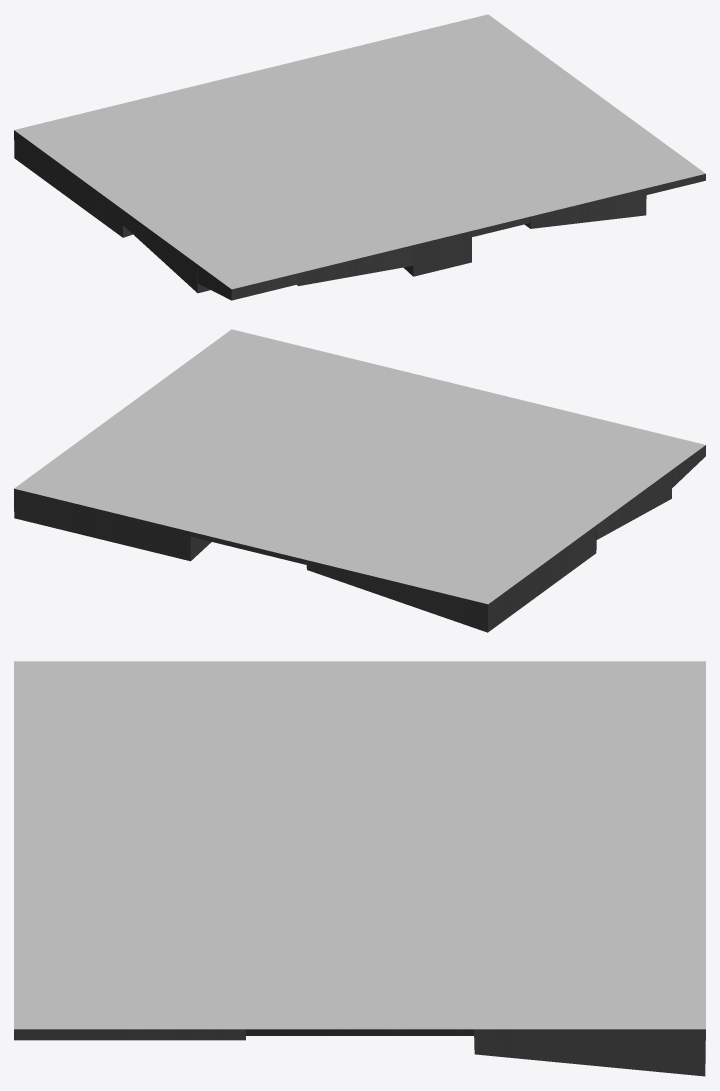
Rendered from nt_2020_wall_art_prop_04_LOD0.obj.
3 renders of one model, top to bottom at view 1: azimuth 30°, elevation 25°; view 2: azimuth 150°, elevation 25°; view 3: azimuth 270°, elevation 25°, orthographic. The views are drawn at different scales.
Parts seen in each view (by area): view 1: lambert1, pent_art_filing_cabinet_base01; view 2: lambert1, pent_art_filing_cabinet_base01; view 3: lambert1, pent_art_filing_cabinet_base01.
Part boxes in pixels (x1=…): lambert1: x1=14, y1=14, x2=705, y2=289; pent_art_filing_cabinet_base01: x1=14, y1=130, x2=705, y2=300; lambert1: x1=14, y1=329, x2=705, y2=604; pent_art_filing_cabinet_base01: x1=14, y1=445, x2=705, y2=632; lambert1: x1=14, y1=661, x2=705, y2=1029; pent_art_filing_cabinet_base01: x1=14, y1=1029, x2=705, y2=1076.
Bounding box in the file's own units: 215 × 13.79 × 171.
